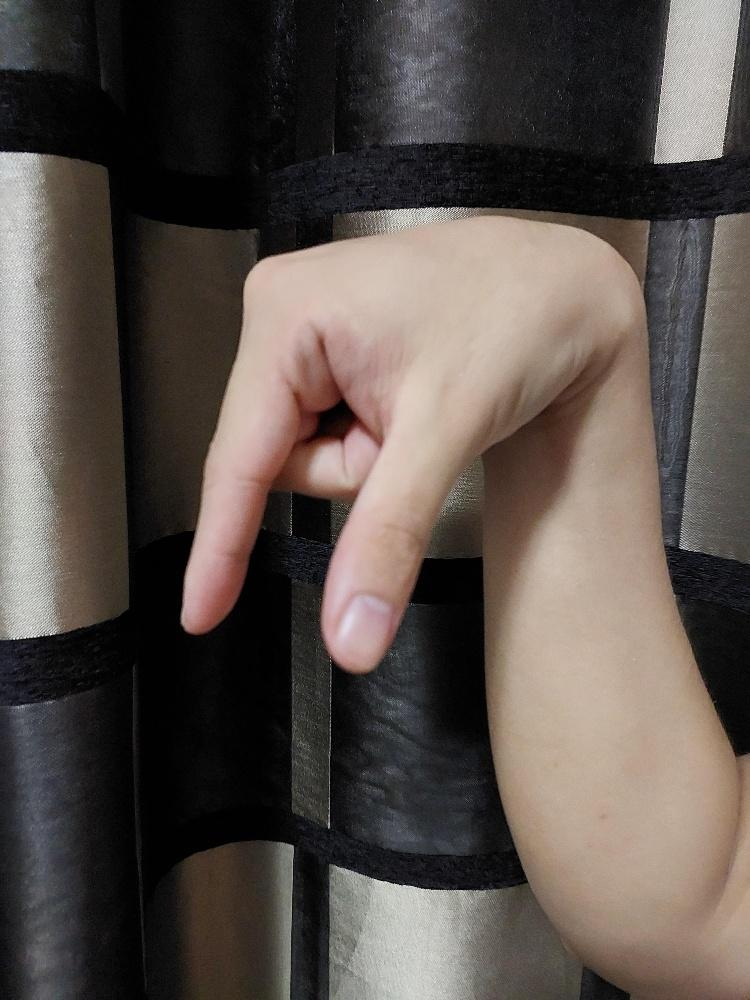q: (176, 212, 608, 674)
